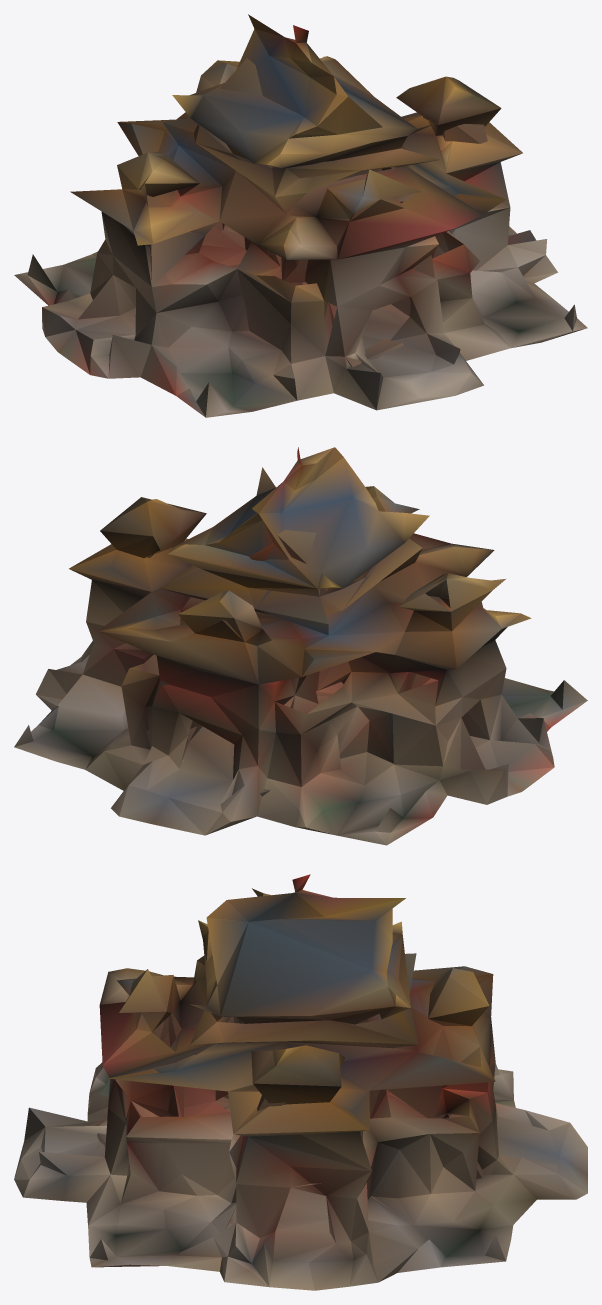
Rendered from bq_array_hall.vc2.glb.
3 renders of one model, top to bottom at view 1: azimuth 30°, elevation 25°; view 2: azimuth 150°, elevation 25°; view 3: azimuth 270°, elevation 25°, orthographic. The views are drawn at different scales.
Parts seen in each view (by area): view 1: bq_array_hall; view 2: bq_array_hall; view 3: bq_array_hall.
Part boxes in pixels (bbox=[...]): bq_array_hall: bbox=[14, 14, 587, 417]; bq_array_hall: bbox=[14, 447, 587, 845]; bq_array_hall: bbox=[14, 874, 587, 1290].
Size of the model in its own units: 1.98 by 1.13 by 1.98.
